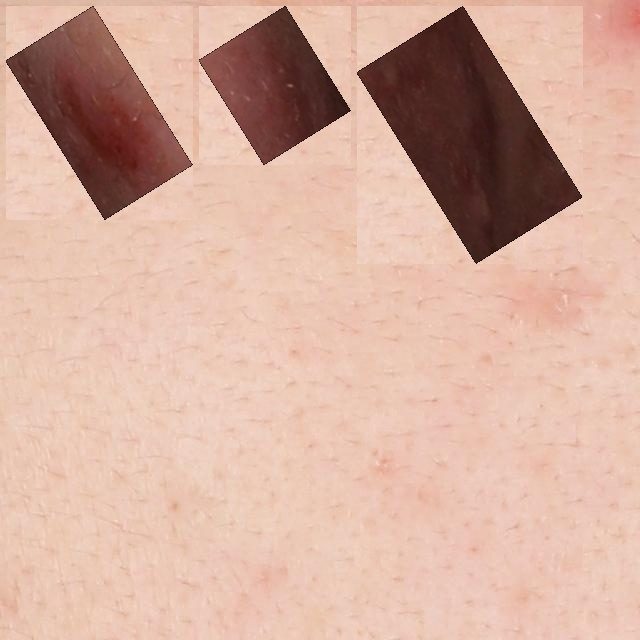nodule: (368, 17, 571, 252), (17, 17, 181, 208), (210, 17, 340, 153)
